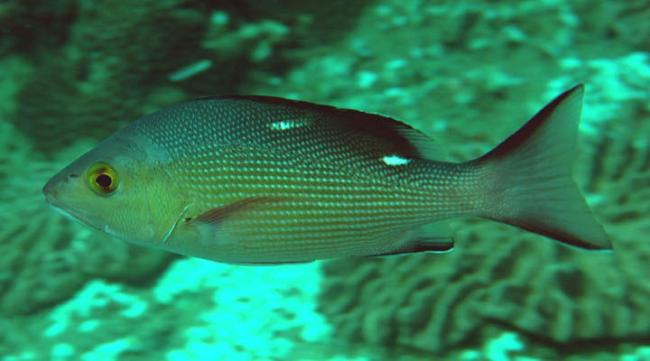fish: (42, 82, 615, 267)
